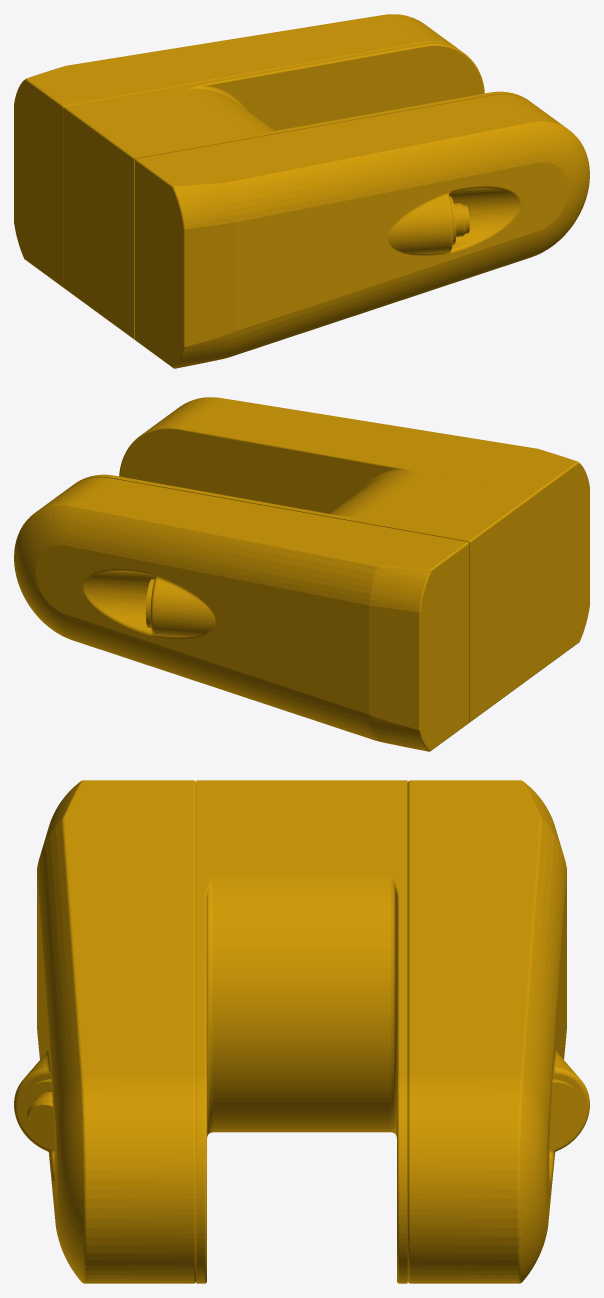
3 views of the same model, one above another, from view 1: azimuth 30°, elevation 25°; view 2: azimuth 150°, elevation 25°; view 3: azimuth 270°, elevation 25° (orthographic). The views are drawn at different scales.
Visible parts, largest first — view 1: link_5; view 2: link_5; view 3: link_5.
Boxes of the visible parts, x1=… form: link_5: x1=14, y1=14, x2=589, y2=368; link_5: x1=14, y1=397, x2=589, y2=751; link_5: x1=14, y1=780, x2=589, y2=1283.
Size of the model in its own units: 0.266 by 0.2126 by 0.1103.
